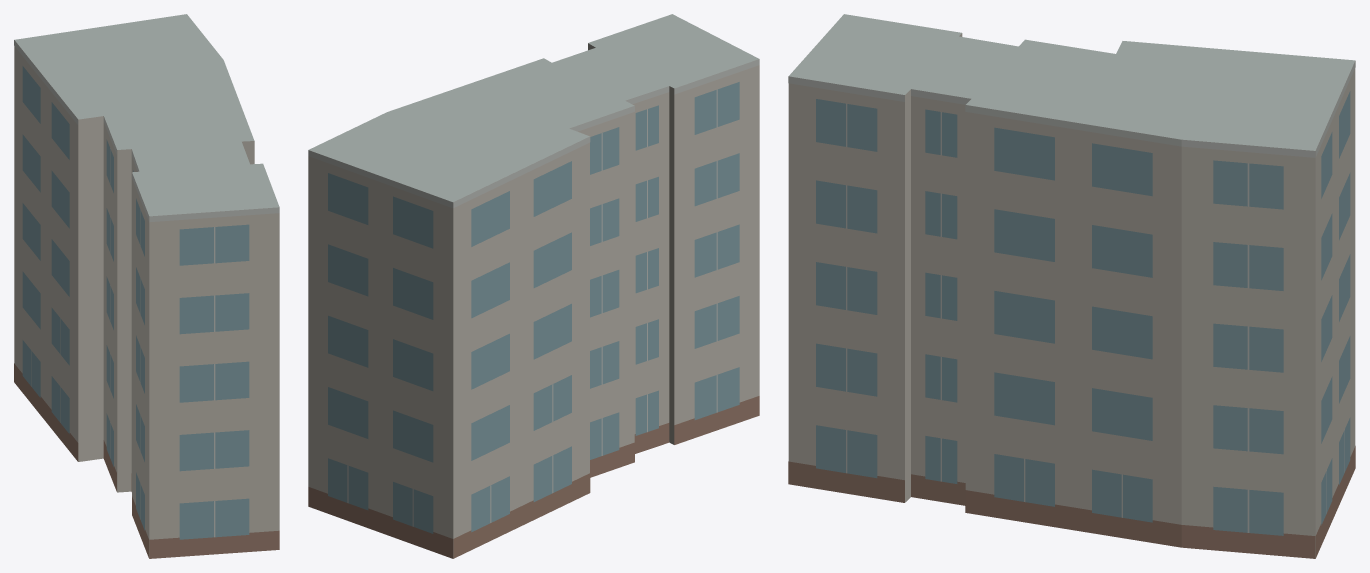
Rendered from survey-upis-32676870.glb.
3 renders of one model, left to right at view 1: azimuth 30°, elevation 25°; view 2: azimuth 150°, elevation 25°; view 3: azimuth 270°, elevation 25°, orthographic. The views are drawn at different scales.
Parts seen in each view (by area): view 1: survey-upis-32676870.tmp; view 2: survey-upis-32676870.tmp; view 3: survey-upis-32676870.tmp.
Part boxes in pixels (x1,y1,x2,y2): survey-upis-32676870.tmp: (14,14,279,558); survey-upis-32676870.tmp: (308,14,759,558); survey-upis-32676870.tmp: (788,14,1355,558).
Bounding box in the file's own units: 10.34 × 14.35 × 18.09.
